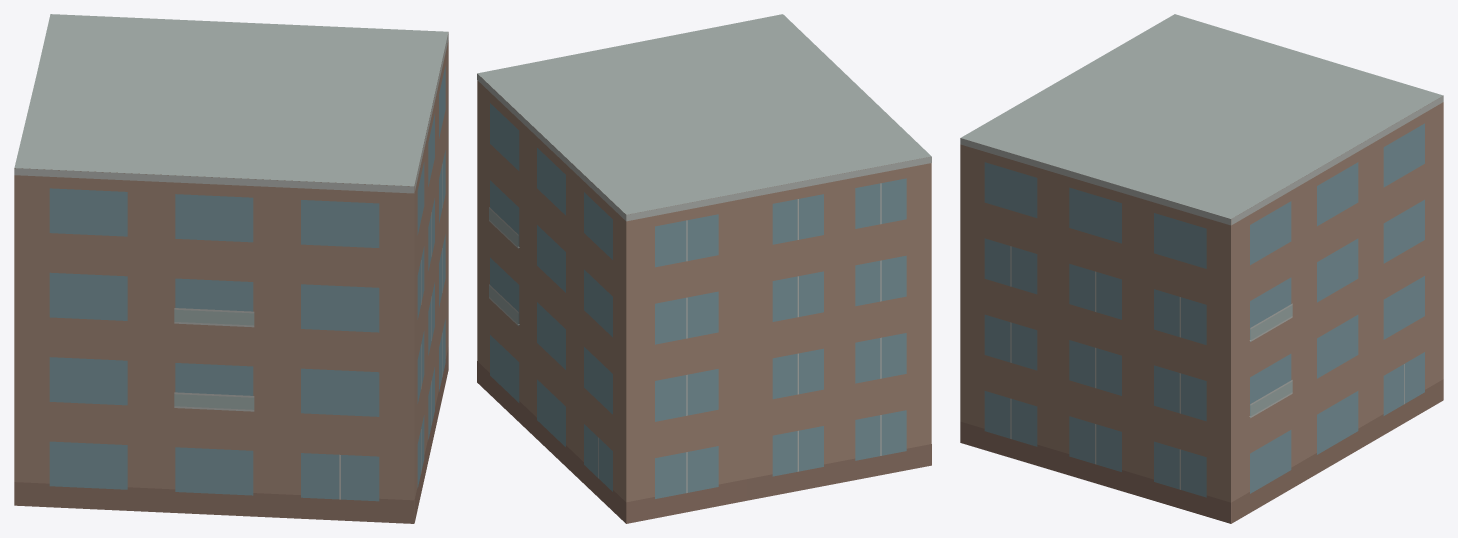
The model's file is survey-upis-32832216.glb.
3 views of the same model, side by side, from view 1: azimuth 30°, elevation 25°; view 2: azimuth 150°, elevation 25°; view 3: azimuth 270°, elevation 25° (orthographic). The views are drawn at different scales.
Parts seen in each view (by area): view 1: survey-upis-32832216.tmp; view 2: survey-upis-32832216.tmp; view 3: survey-upis-32832216.tmp.
Boxes of the visible parts, x1,y1,x2,y2 form: survey-upis-32832216.tmp: [14, 14, 448, 523]; survey-upis-32832216.tmp: [477, 14, 931, 523]; survey-upis-32832216.tmp: [960, 14, 1443, 523].
Bounding box in the file's own units: 16.6 × 11.5 × 16.53.
